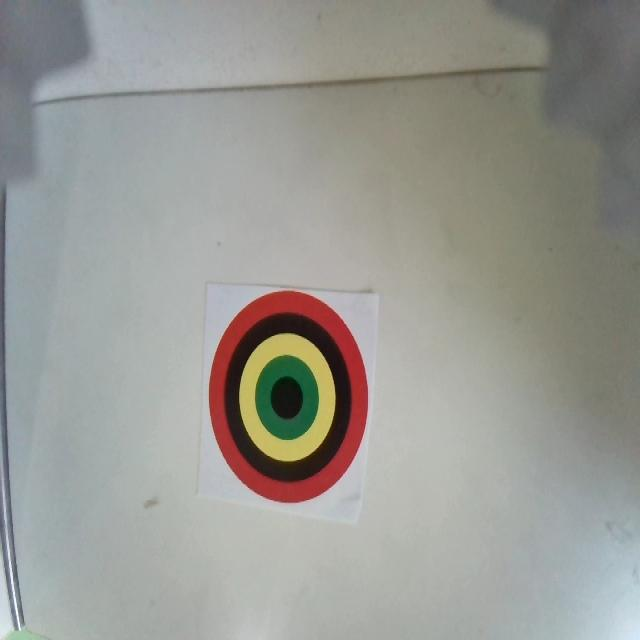cogn: (209, 290, 369, 502)
